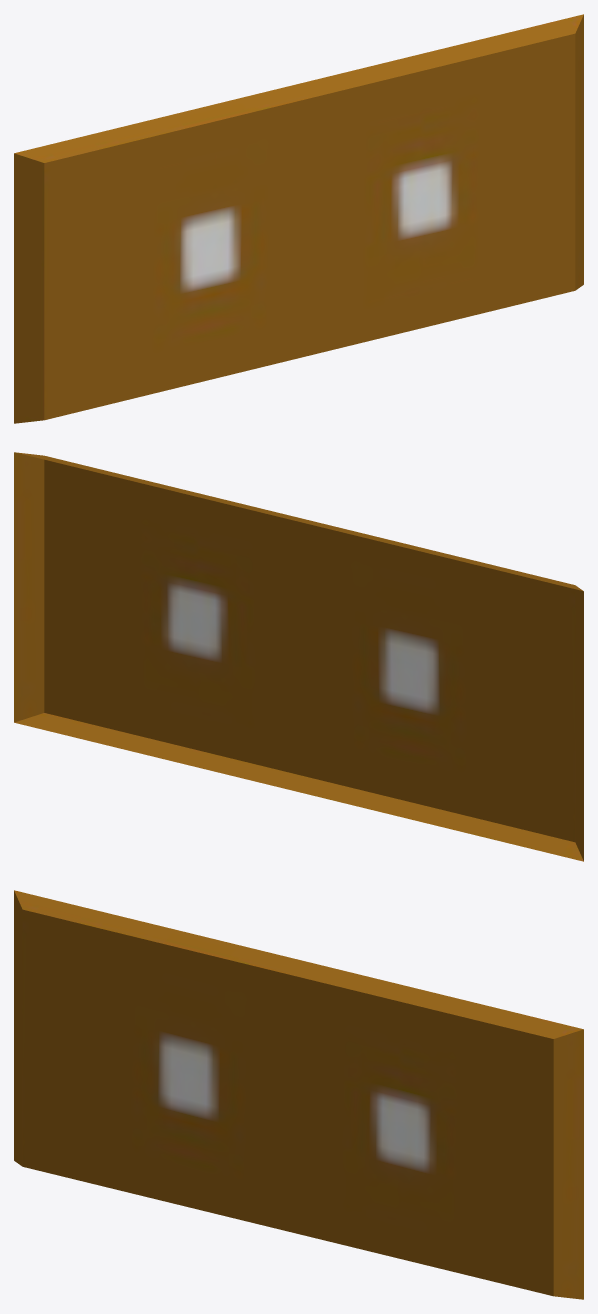
The model's file is SA_GoldStopKontak03.fbx.
3 renders of one model, top to bottom at view 1: azimuth 30°, elevation 25°; view 2: azimuth 150°, elevation 25°; view 3: azimuth 330°, elevation 25°, orthographic.
Visible parts, largest first — view 1: SA_GoldStopKontak01; view 2: SA_GoldStopKontak01; view 3: SA_GoldStopKontak01.
Part boxes in pixels (<box>): SA_GoldStopKontak01: <box>14,14,583,423</box>; SA_GoldStopKontak01: <box>14,452,583,861</box>; SA_GoldStopKontak01: <box>14,890,583,1299</box>.
Size of the model in its own units: 23.81 by 10.8 by 0.7881.
